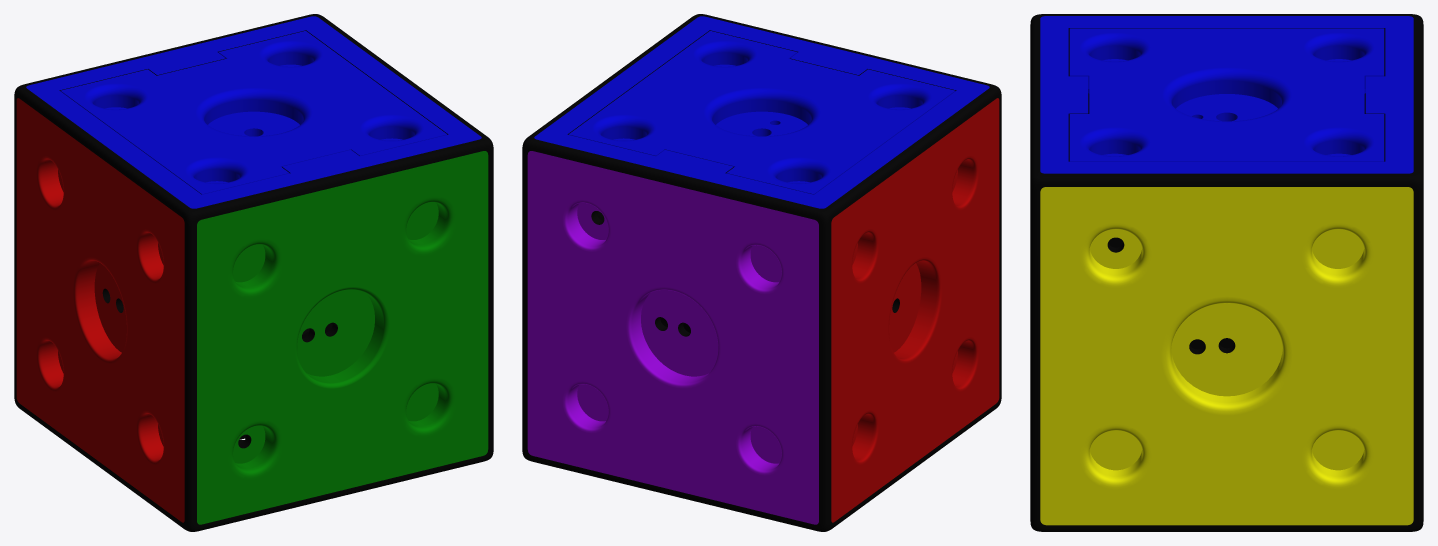
3 views of the same model, side by side, from view 1: azimuth 30°, elevation 25°; view 2: azimuth 150°, elevation 25°; view 3: azimuth 270°, elevation 25° (orthographic). The views are drawn at different scales.
Visible parts, largest first — view 1: object 1, Volumenkörper6; view 2: object 1, Volumenkörper6; view 3: object 1, Volumenkörper6.
Boxes of the visible parts, <box> form: object 1: <box>14,14,493,531</box>; Volumenkörper6: <box>60,31,447,194</box>; object 1: <box>522,14,1001,531</box>; Volumenkörper6: <box>568,31,955,194</box>; object 1: <box>1030,14,1423,531</box>; Volumenkörper6: <box>1069,28,1384,161</box>.
Size of the model in its own units: 0.04 by 0.0425 by 0.04.
